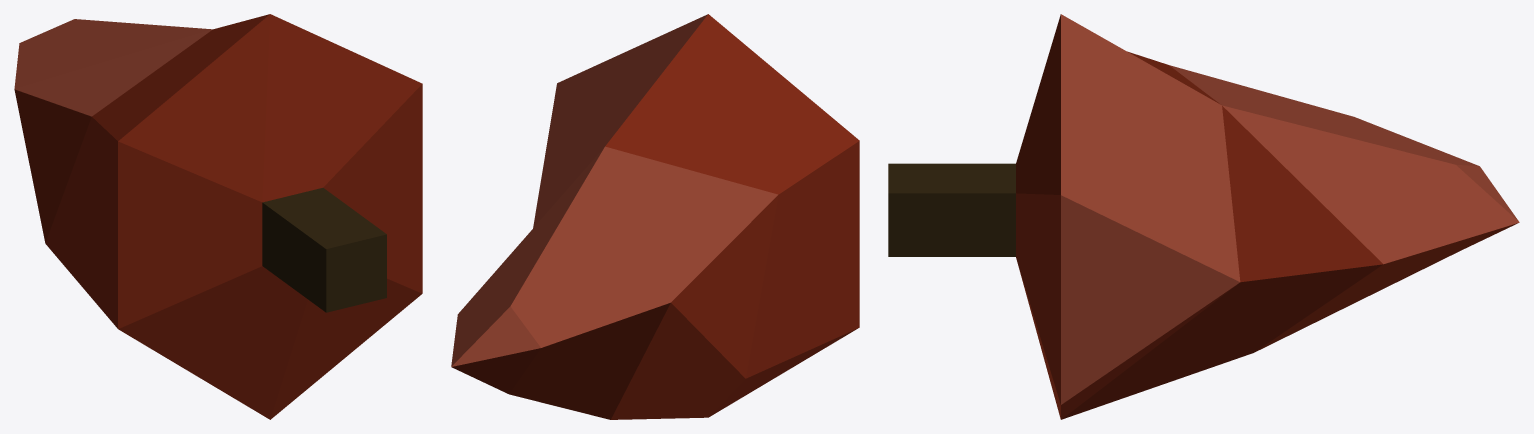
File: tree_9.fbx
3 renders of one model, left to right at view 1: azimuth 30°, elevation 25°; view 2: azimuth 150°, elevation 25°; view 3: azimuth 270°, elevation 25°, orthographic.
Visible parts, largest first — view 1: tree_9; view 2: tree_9; view 3: tree_9.
Boxes of the visible parts, x1,y1,x2,y2 form: tree_9: [14, 14, 422, 419]; tree_9: [451, 14, 859, 419]; tree_9: [888, 14, 1519, 419].
Bounding box in the file's own units: 126 × 161 × 227.
